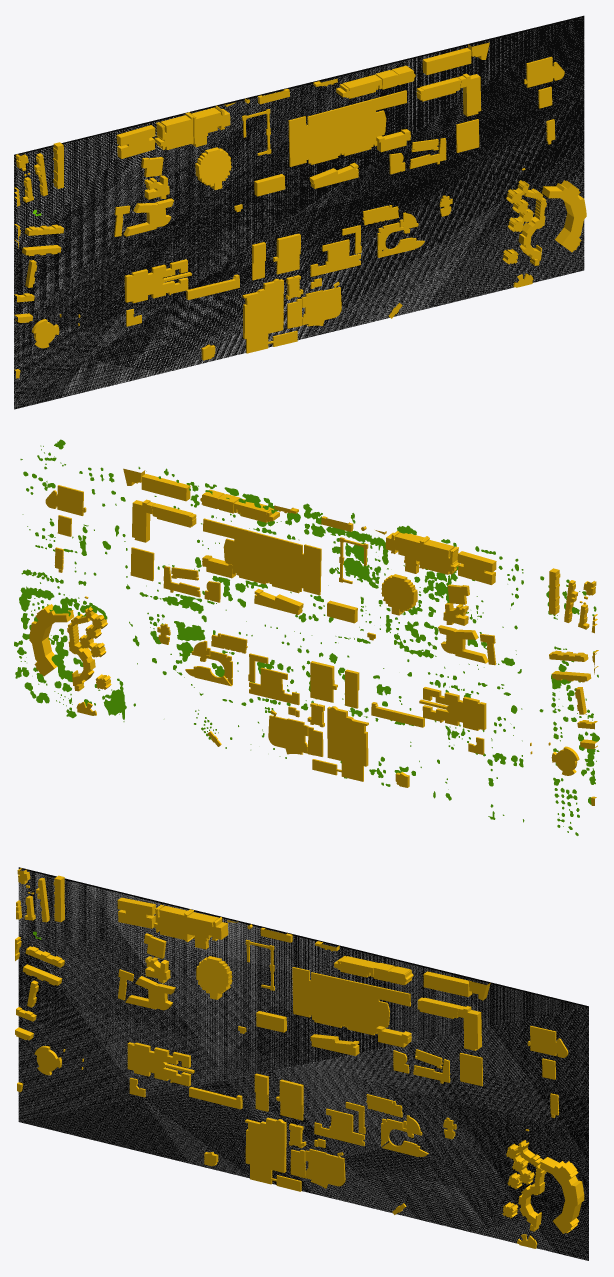
Rendered from existing_trees_09.glb.
The picture shows the model from 3 angles, top to bottom: view 1: azimuth 30°, elevation 25°; view 2: azimuth 150°, elevation 25°; view 3: azimuth 330°, elevation 25°; orthographic projection.
Parts seen in each view (by area): view 1: Layer 04, existing_building - Copy, base; view 2: existing_building - Copy, treesurface; view 3: Layer 04, base, existing_building - Copy.
Boxes of the visible parts, x1,y1,x2,y2 form: Layer 04: (14,15,584,409); existing_building - Copy: (14,42,586,378); base: (14,18,584,408); existing_building - Copy: (29,468,598,805); treesurface: (14,439,599,835); Layer 04: (18,867,588,1260); base: (18,869,588,1260); existing_building - Copy: (15,868,584,1248).
Size of the model in its own units: 1019 by 458 by 20.85.
